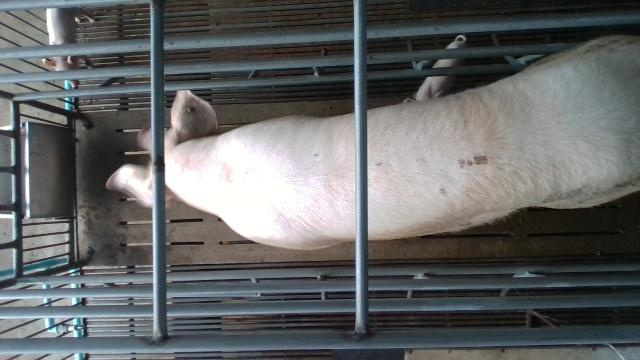piglet: (42, 7, 97, 89), (415, 35, 467, 100)
sow-stand: (108, 35, 640, 252)
